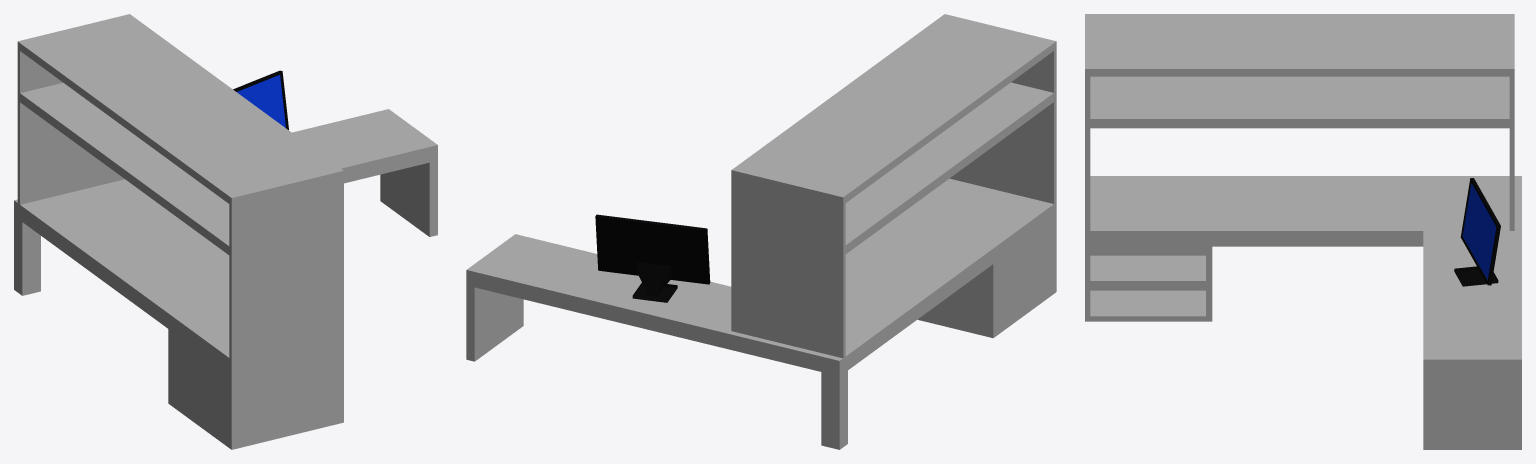
Rendered from Desk.fbx.
3 renders of one model, left to right at view 1: azimuth 30°, elevation 25°; view 2: azimuth 150°, elevation 25°; view 3: azimuth 270°, elevation 25°, orthographic.
Parts seen in each view (by area): view 1: Cube.033; view 2: Cube.033; view 3: Cube.033.
Boxes of the visible parts, box(x1,y1,x2,y2) form: Cube.033: box(14, 14, 437, 449); Cube.033: box(466, 14, 1056, 449); Cube.033: box(1085, 14, 1521, 449).
Size of the model in its own units: 2.8 by 1.8 by 2.82.
